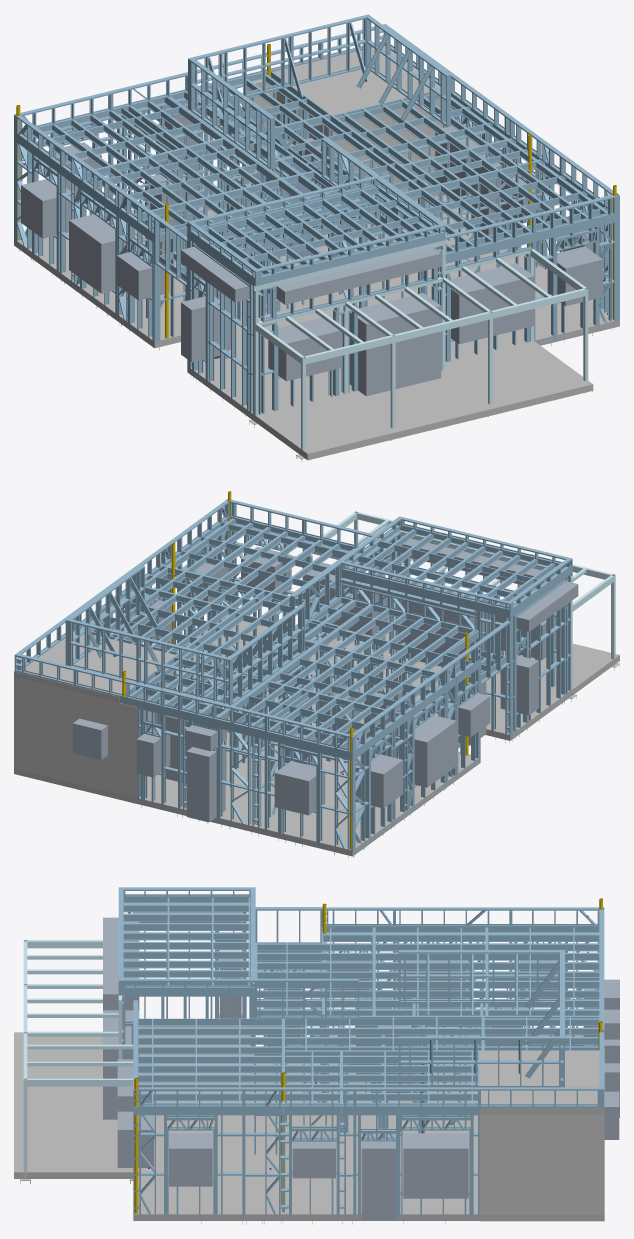
Rendered from shita-room.glb.
The picture shows the model from 3 angles, top to bottom: view 1: azimuth 30°, elevation 25°; view 2: azimuth 150°, elevation 25°; view 3: azimuth 270°, elevation 25°; orthographic projection. The views are drawn at different scales.
Parts seen in each view (by area): view 1: part_10, part_08, part_01, part_12, part_05, part_07; view 2: part_10, part_01, part_08, part_05, part_12, part_07; view 3: part_10, part_08, part_01, part_05, part_12, part_07.
Boxes of the visible parts, box(x1,y1,x2,y2) form: part_10: box(14, 14, 619, 416); part_08: box(14, 45, 619, 460); part_01: box(21, 104, 602, 396); part_12: box(253, 225, 588, 450); part_05: box(252, 79, 443, 201); part_07: box(16, 44, 616, 338); part_10: box(14, 499, 572, 855); part_01: box(73, 538, 578, 822); part_08: box(14, 614, 619, 856); part_05: box(14, 672, 173, 798); part_12: box(304, 511, 615, 690); part_07: box(122, 491, 468, 849); part_10: box(118, 887, 604, 1220); part_08: box(14, 1032, 604, 1221); part_01: box(103, 912, 619, 1220); part_05: box(479, 1048, 604, 1214); part_12: box(23, 940, 285, 1177); part_07: box(134, 898, 602, 1213).
Bounding box in the file's own units: 12.74 × 5.14 × 16.69.
